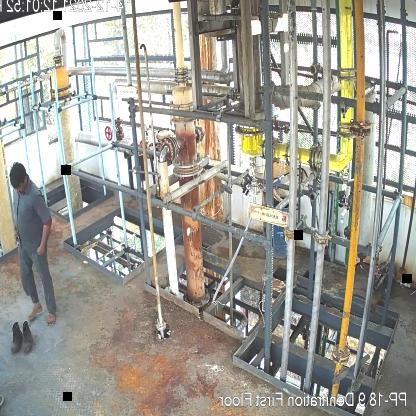no_shoes: (27, 300, 42, 322), (46, 305, 58, 325)
shoes: (7, 320, 24, 359), (21, 320, 36, 353)
